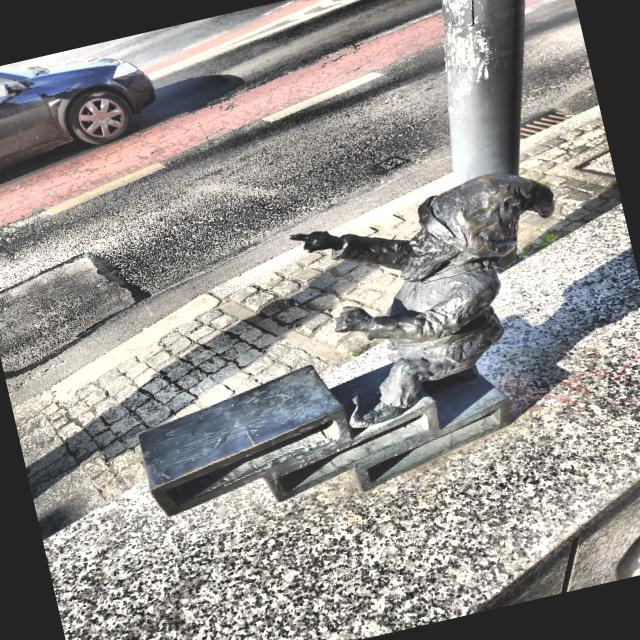Elementek: (138, 174, 553, 515)
